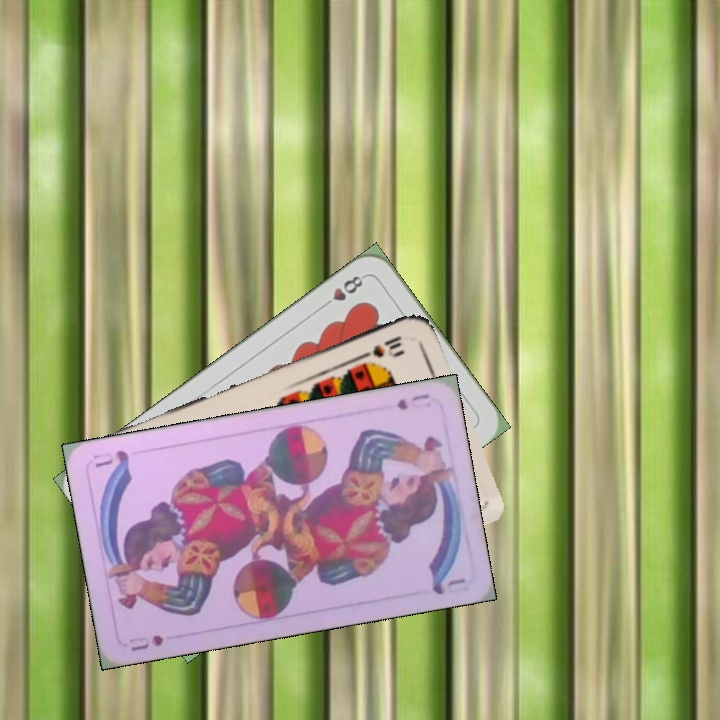H8: (317, 271, 367, 311)
S10: (355, 331, 405, 362)
SU: (125, 630, 166, 654), (392, 389, 432, 413)
